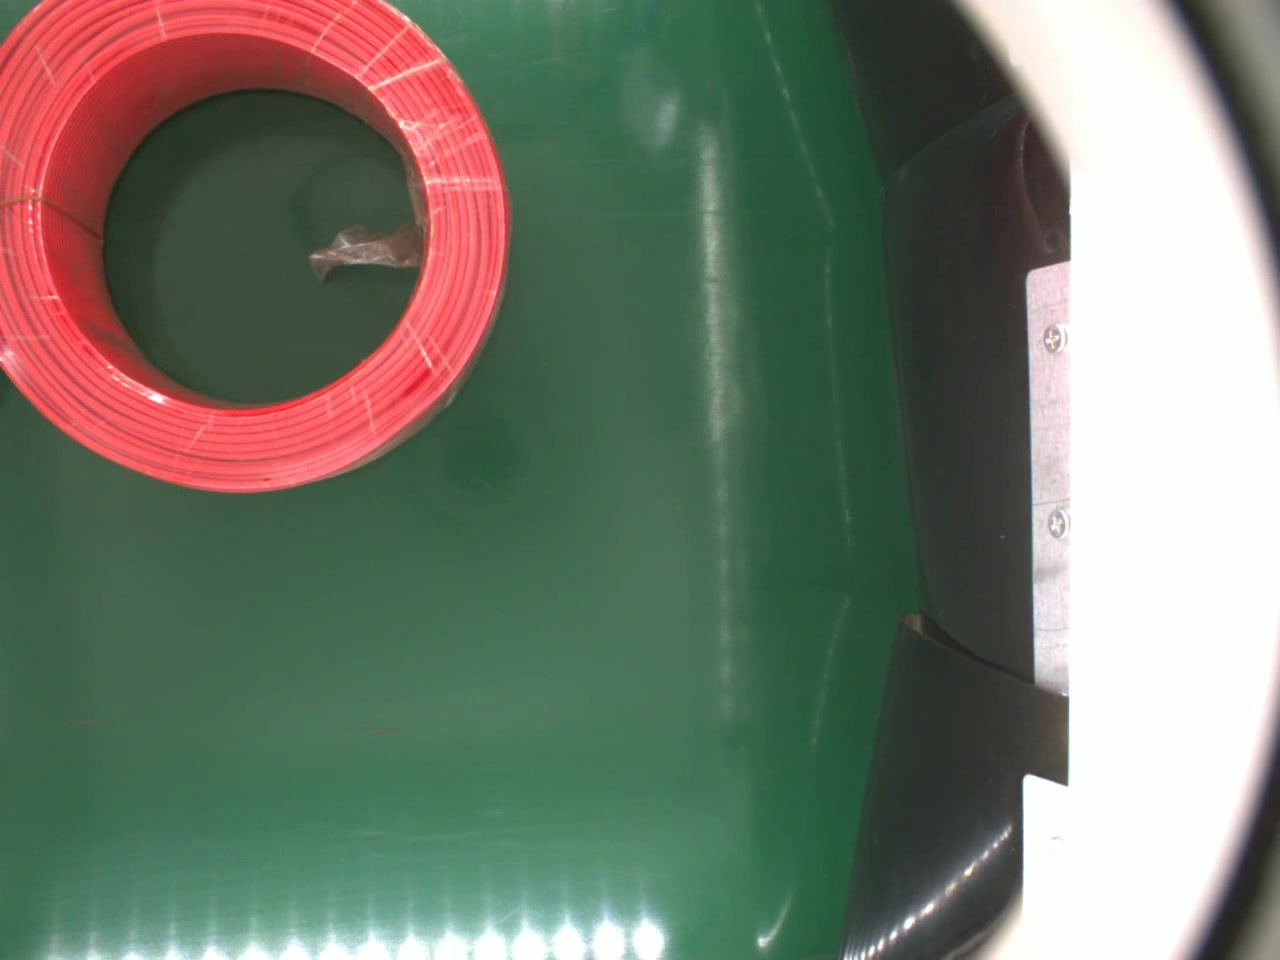red: (0, 0, 512, 498)
